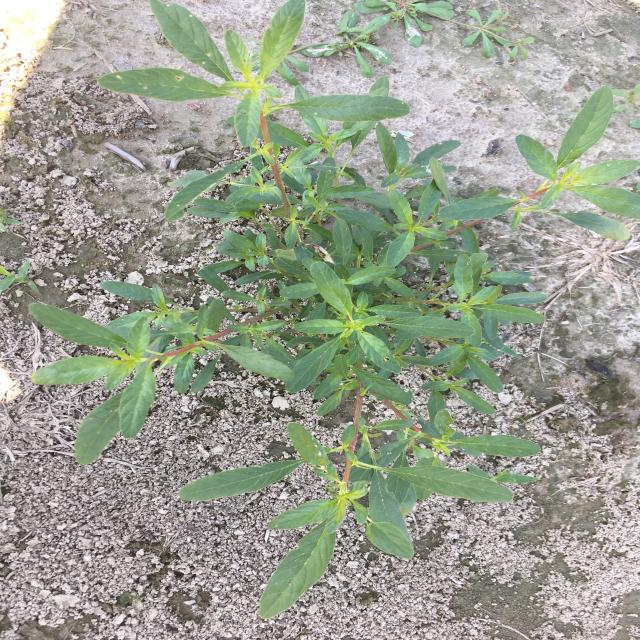Carpetweed: (247, 10, 392, 86), (353, 0, 535, 60)
Waterhemp: (28, 0, 639, 617)
